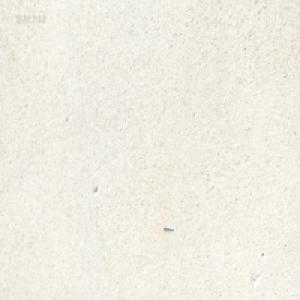Nail: (163, 225, 174, 232)
